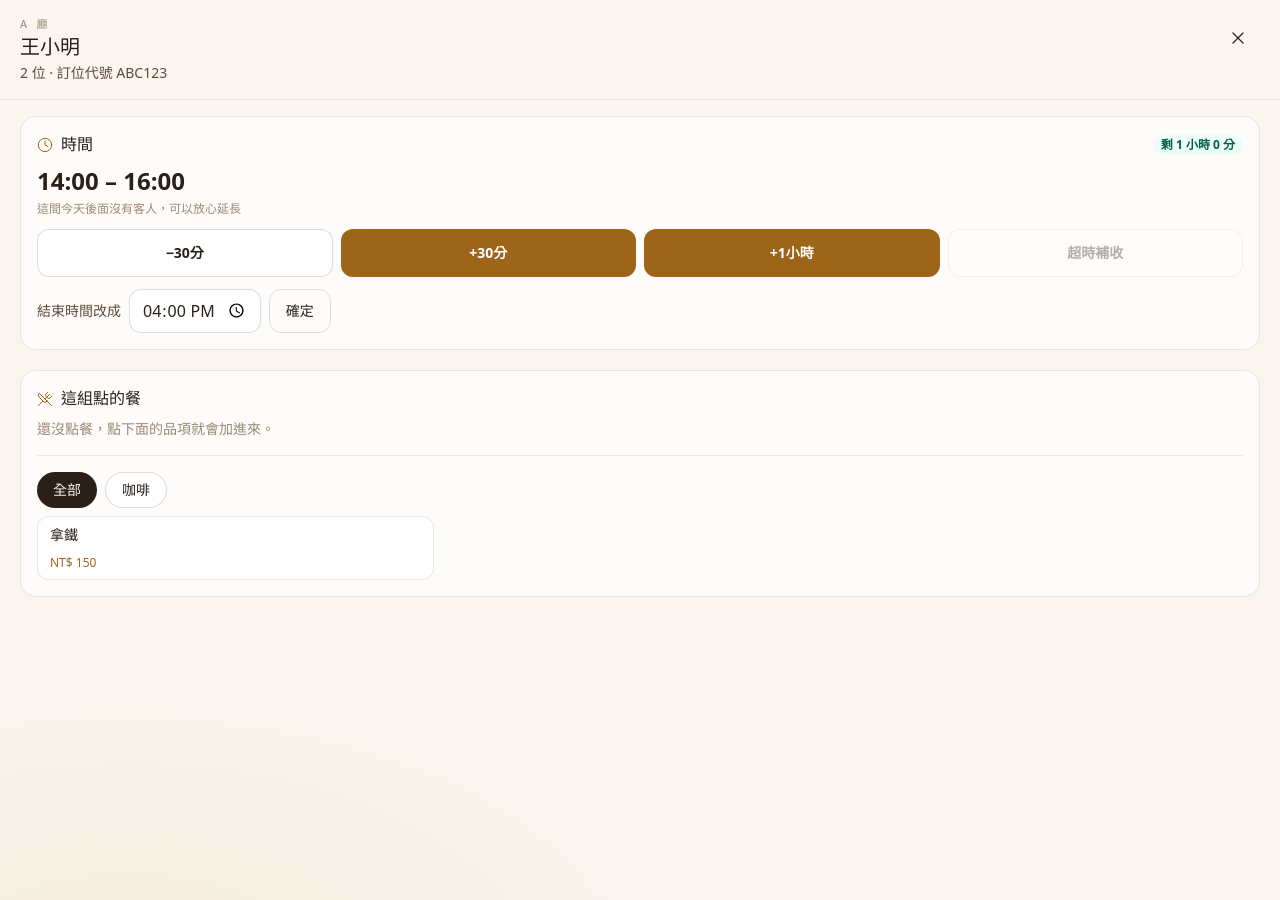
it: RoomCheckoutPanel add submission › keeps a validated view and marks the committed add stale when its reload is incomplete
This screenshot has width=1280, height=900.
Click the button "拿鐵 NT$ 150". click: (73, 562)
box: [37,516,434,580]
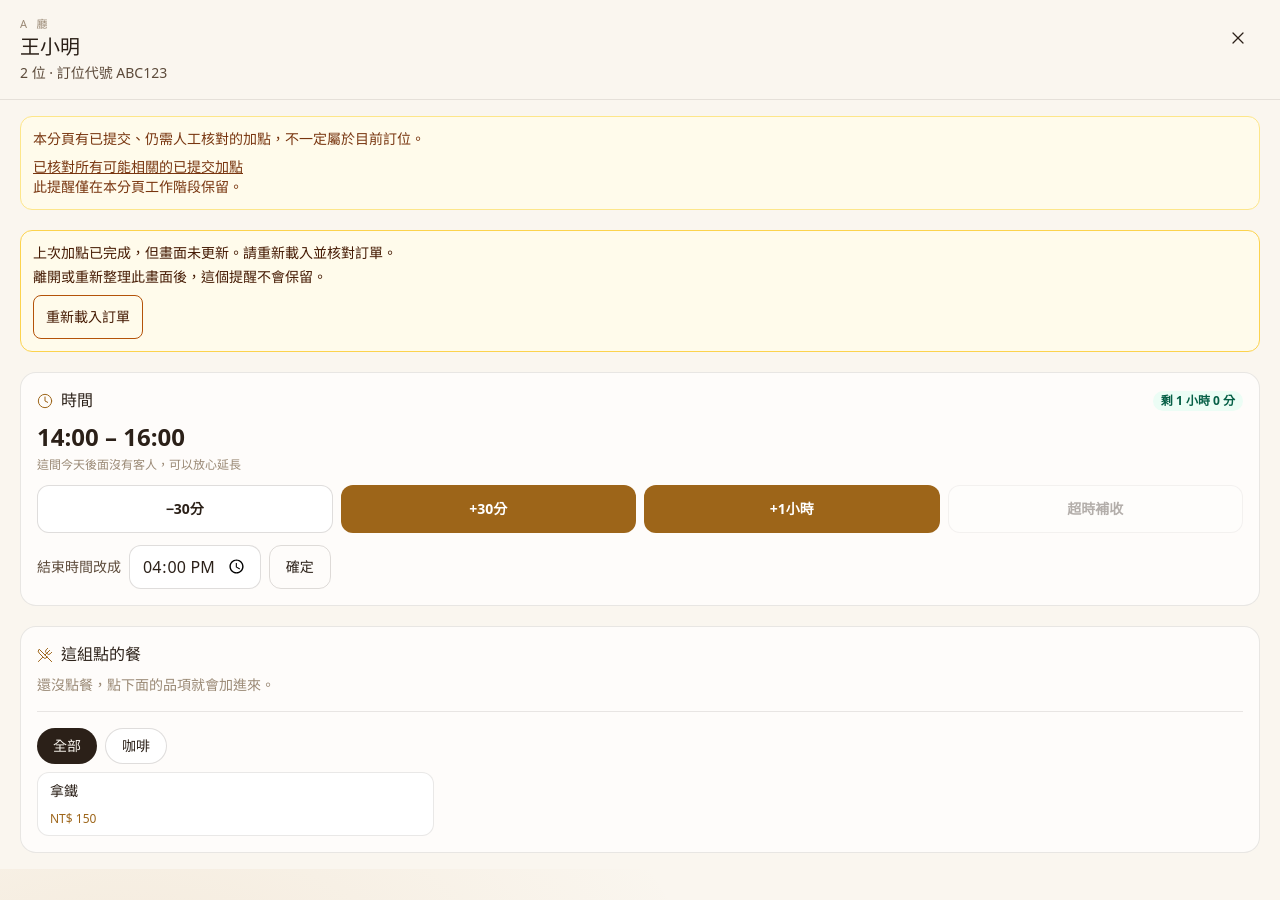
Expected: the heading "王小明" is shown, [20,36,80,58]
Expected: the text "上次加點已完成，但畫面未更新。請重新載入並核對訂單。" is shown, [33,242,397,262]
Expected: the button "重新載入訂單" is shown, [33,294,143,338]
